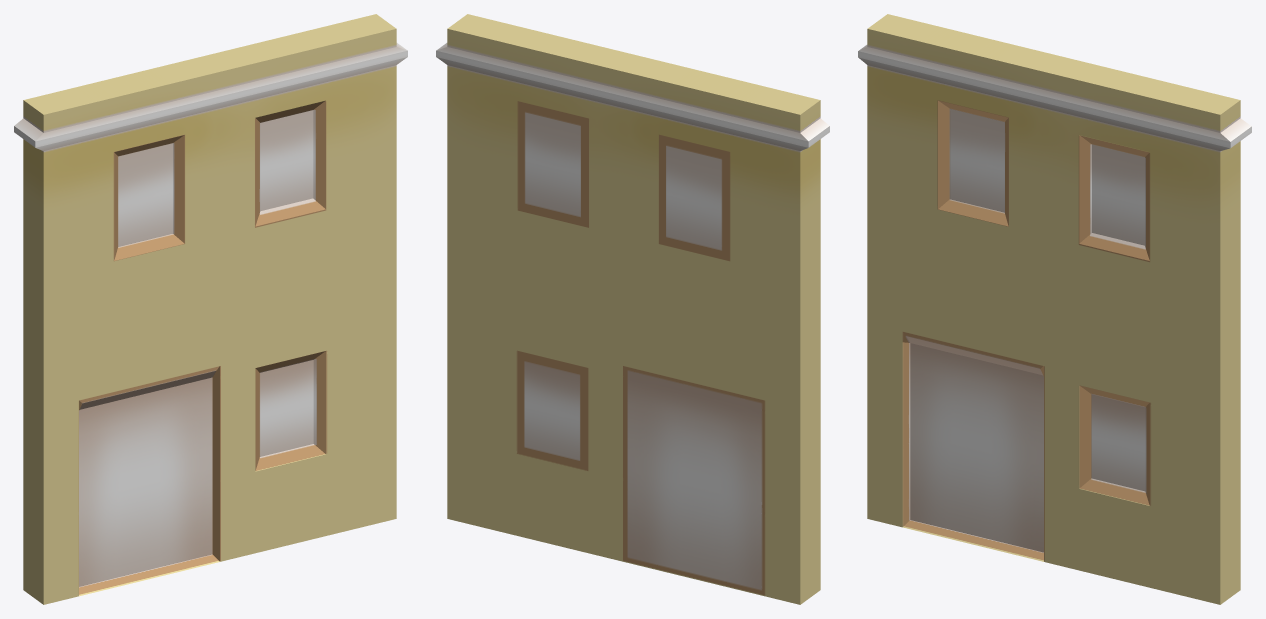
Rendered from sobrado1.fbx.
The picture shows the model from 3 angles, left to right: view 1: azimuth 30°, elevation 25°; view 2: azimuth 150°, elevation 25°; view 3: azimuth 330°, elevation 25°; orthographic projection.
Parts seen in each view (by area): view 1: Cube.019; view 2: Cube.019; view 3: Cube.019.
Part boxes in pixels (x1,y1,x2,y2): Cube.019: (14, 14, 407, 604); Cube.019: (436, 14, 829, 604); Cube.019: (858, 14, 1251, 604).
Size of the model in its own units: 211 by 265 by 20.9.
1 material, 1 textured.
